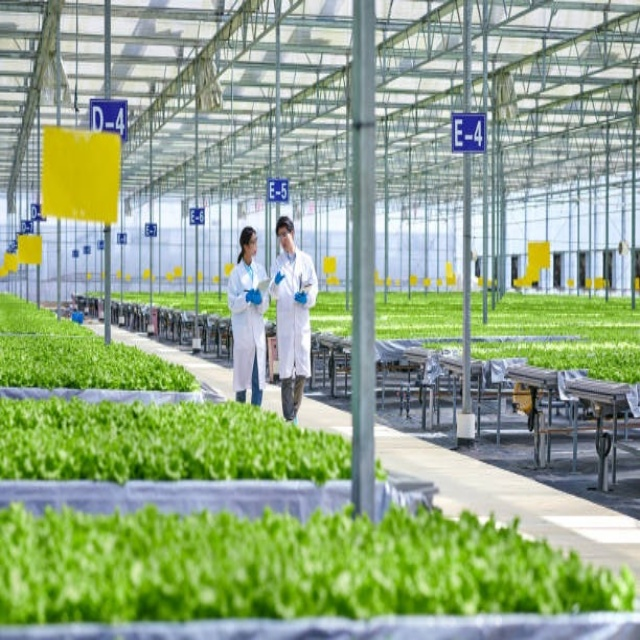Guantes: (245, 289, 262, 305), (294, 291, 307, 305), (275, 271, 285, 285)
